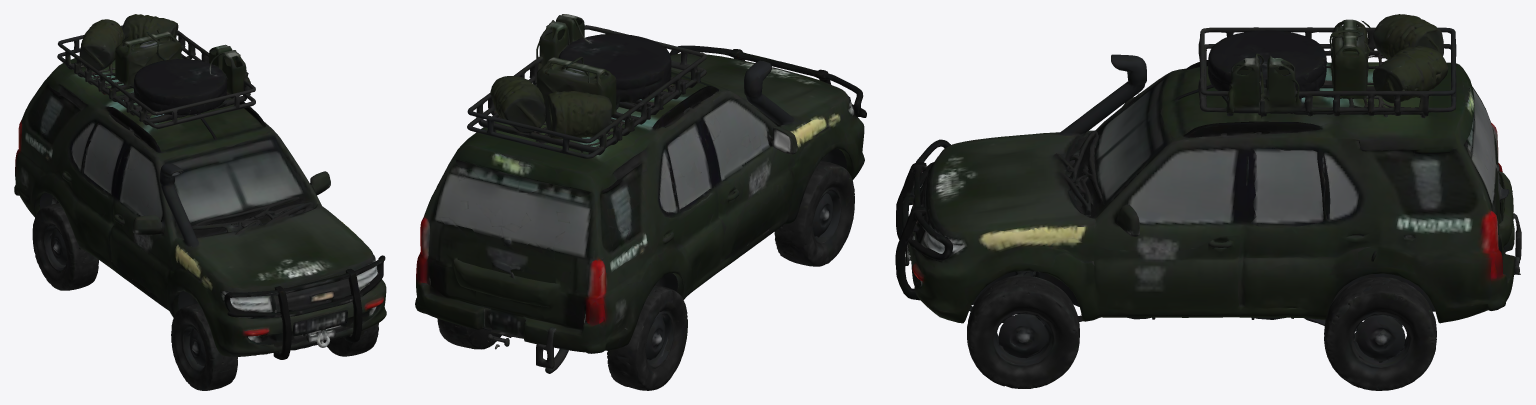
File: sample_2026-09-20T161027.542.glb
The picture shows the model from 3 angles, left to right: view 1: azimuth 30°, elevation 25°; view 2: azimuth 150°, elevation 25°; view 3: azimuth 270°, elevation 25°; orthographic projection. The views are drawn at different scales.
Parts seen in each view (by area): view 1: world; view 2: world; view 3: world.
Boxes of the visible parts, x1,y1,x2,y2 form: world: [14, 14, 386, 390]; world: [415, 14, 866, 390]; world: [895, 14, 1521, 390].
Size of the model in its own units: 0.4684 by 0.5502 by 1.
1 material, 1 textured.
